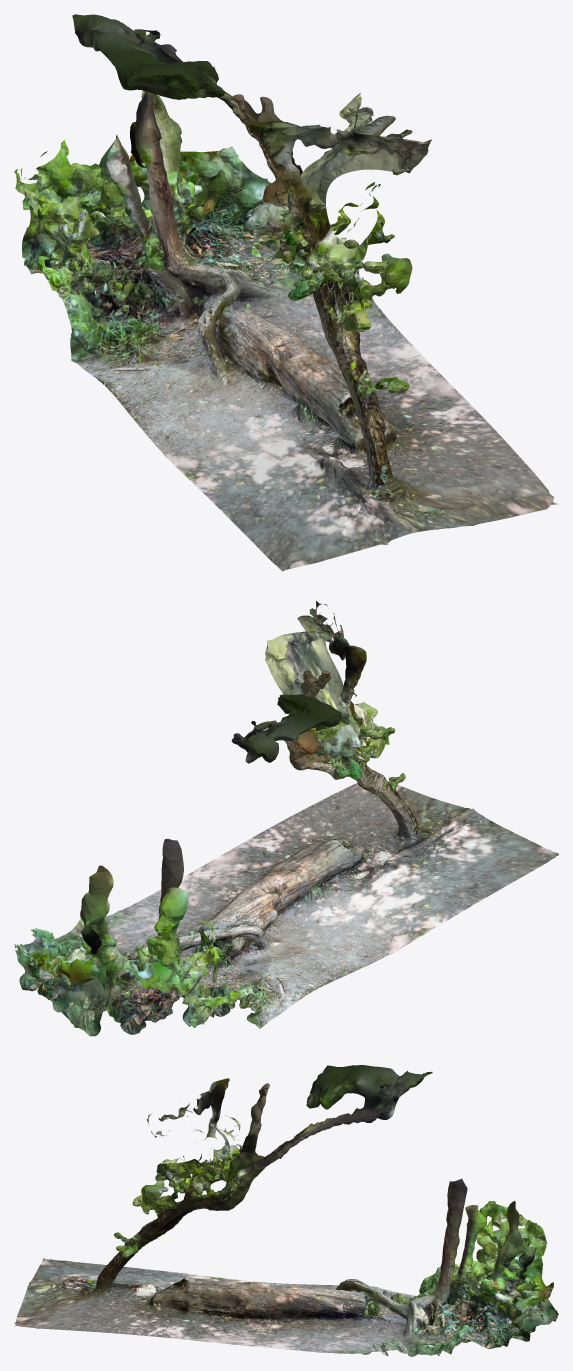
Rendered from arbre.glb.
The picture shows the model from 3 angles, top to bottom: view 1: azimuth 30°, elevation 25°; view 2: azimuth 150°, elevation 25°; view 3: azimuth 270°, elevation 25°; orthographic projection. The views are drawn at different scales.
Visible parts, largest first — view 1: Mesh_0, Mesh_1; view 2: Mesh_0, Mesh_1; view 3: Mesh_0, Mesh_1.
Part boxes in pixels (x1,y1,x2,y2): Mesh_0: (24, 14, 558, 528); Mesh_1: (14, 23, 439, 571); Mesh_0: (15, 603, 483, 1028); Mesh_1: (14, 601, 558, 1036); Mesh_0: (14, 1070, 553, 1356); Mesh_1: (25, 1065, 558, 1356).
Bounding box in the file's own units: 3.25 × 3.12 × 6.65.
2 materials, 2 textured.
